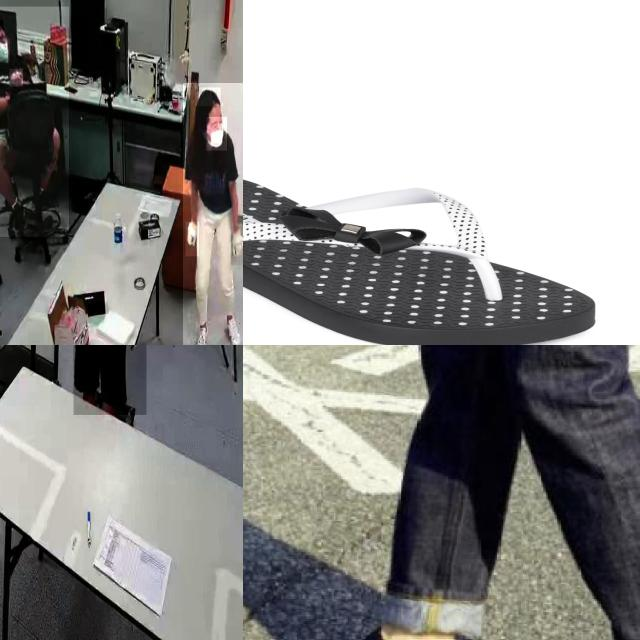Sandals: (243, 173, 599, 345), (243, 562, 462, 640)
face_mask: (207, 116, 227, 150), (0, 38, 10, 63)
hand_glove: (230, 226, 243, 266), (186, 222, 200, 257)
hand_noglove: (10, 69, 23, 87)
head_nohelmet: (195, 87, 221, 107)
person: (182, 83, 243, 345), (0, 6, 69, 237), (73, 345, 146, 415)
shoes: (221, 310, 243, 345), (190, 319, 209, 345)
